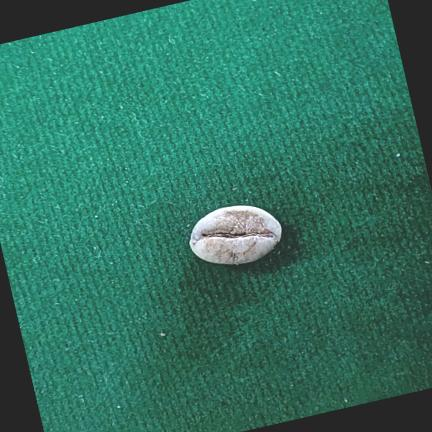husk: (190, 205, 282, 265)
